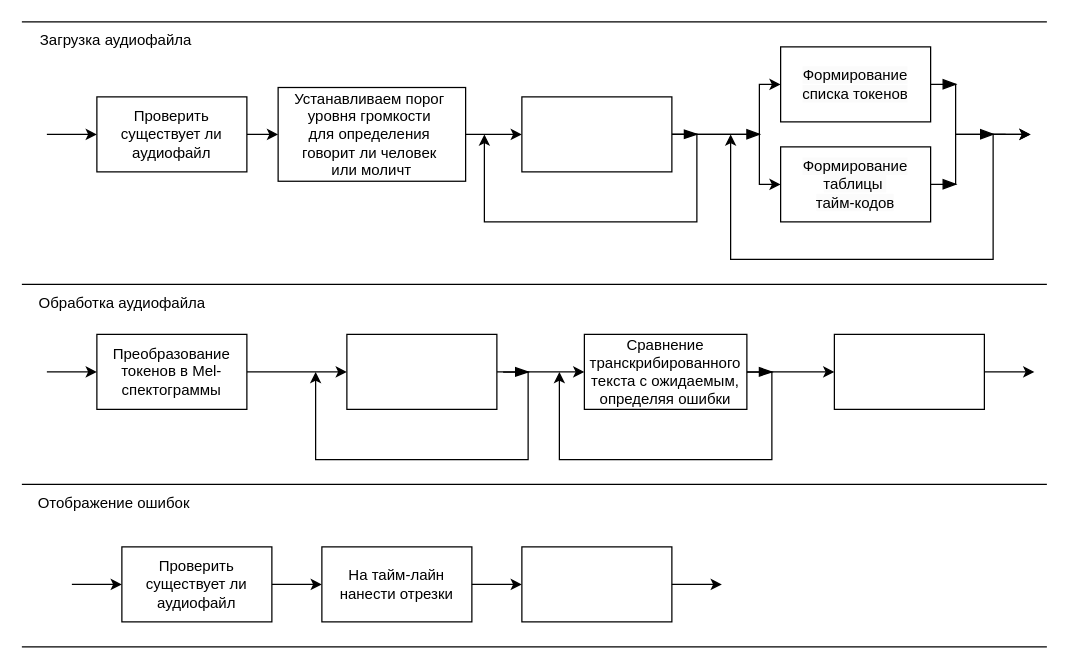
Some shapes in this 1070 by 670 pixel diagram are drawn without their labels. The shapes that lost their labels are listed below. From the top down, each one's centre as x and y in pixels, then its label:
At pixel 596 134: "Определение границ отдельного слова в аудиофайле".
At pixel 421 371: "Транскрибируем токены в текст помощью ASR".
At pixel 908 371: "Создание таблицы с описанием и тайм-кодами ошибок".
At pixel 596 584: "При наведении на отрезок отобразить вид ошибки".
